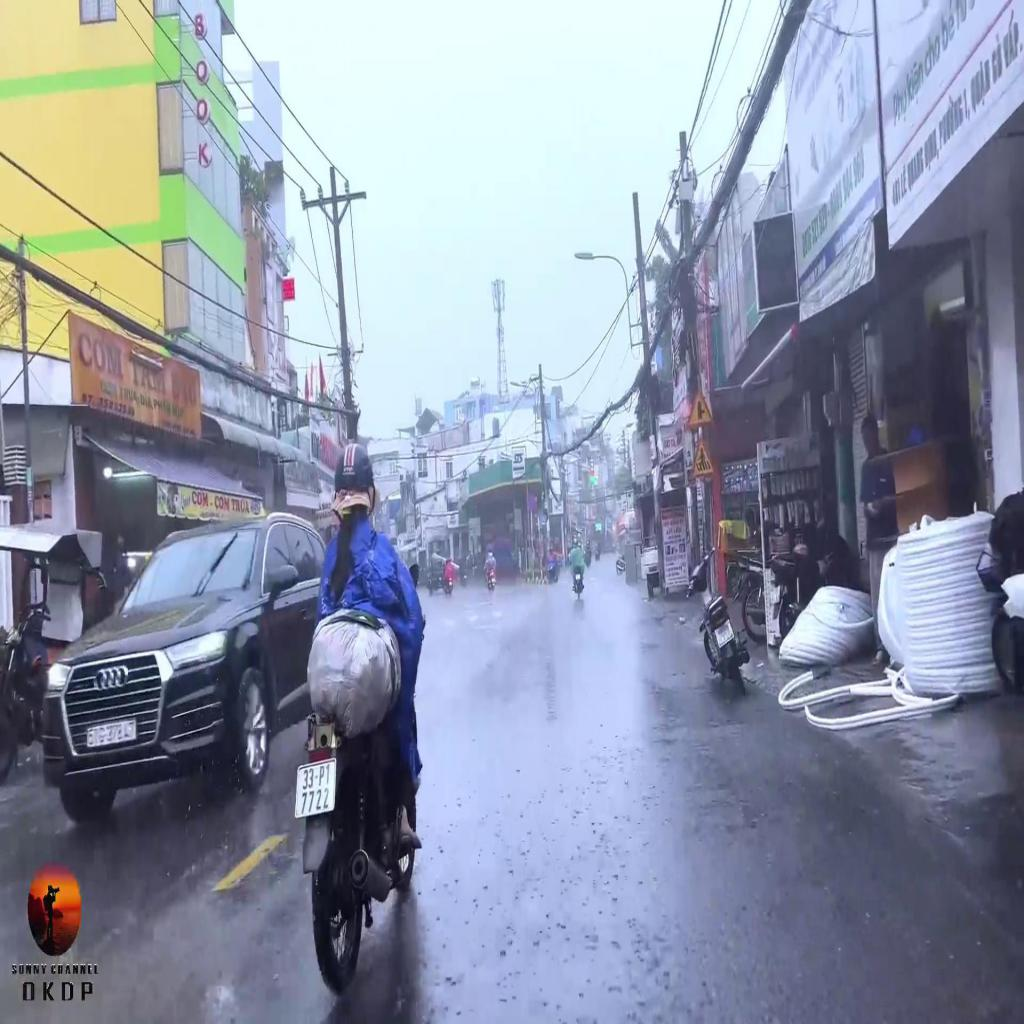chu_y_nguoi_di_bo_cat_ngang: (692, 434, 716, 478)
giao_nhau_voi_duong_khong_uu_tien: (688, 387, 714, 427)
